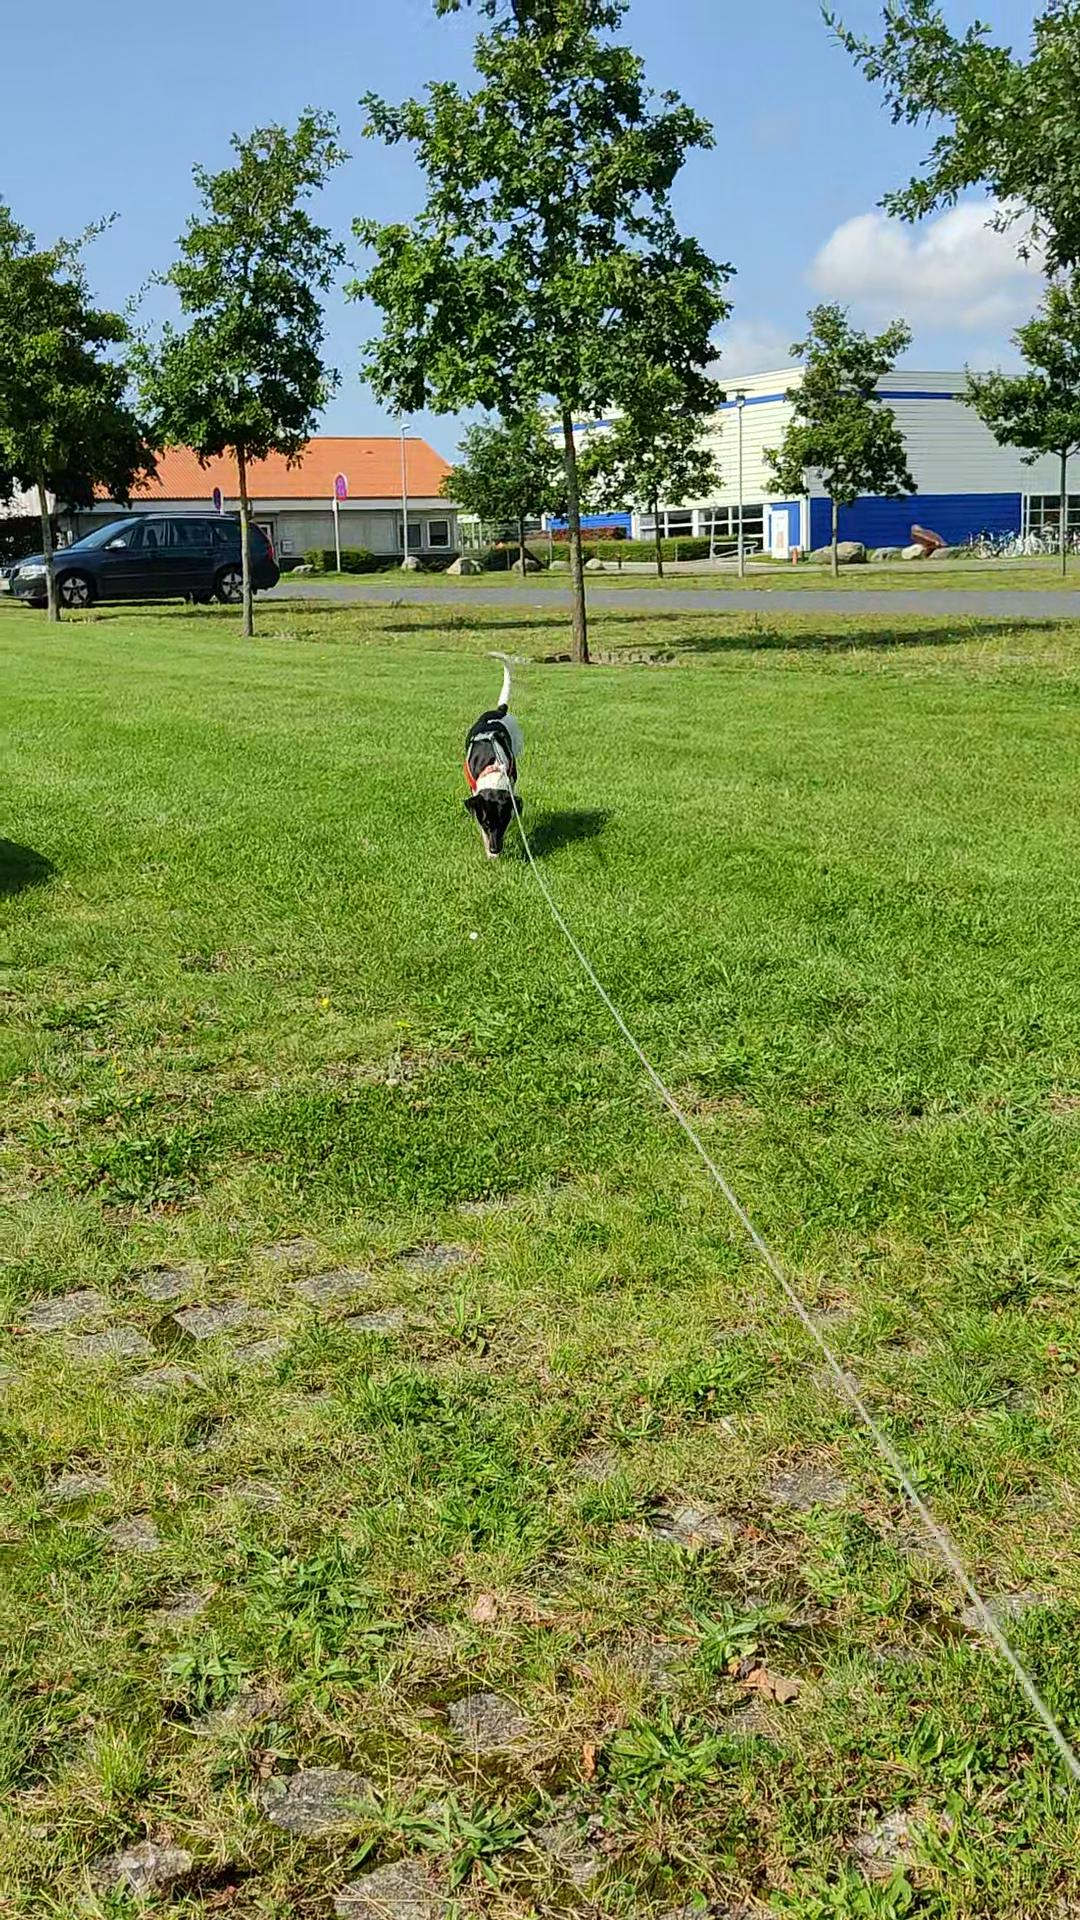Dog: (434, 644, 554, 864)
